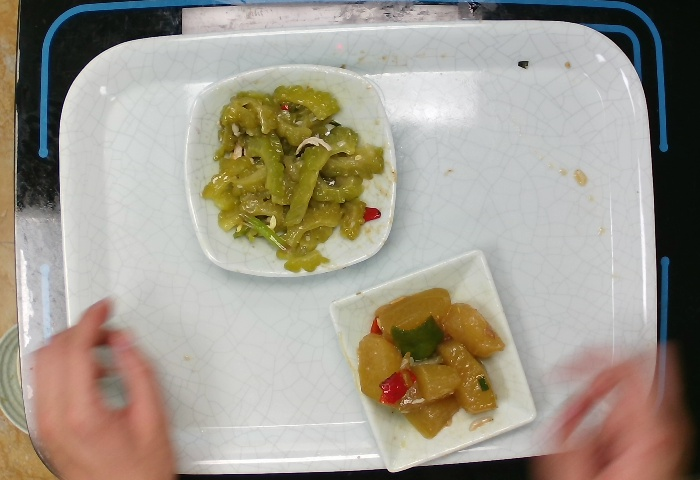WCQzf-Da_Si_Fang_Die: (177, 57, 402, 287)
WCQzf-Ru_Ci_Si_Fang_Die: (325, 248, 542, 478)
